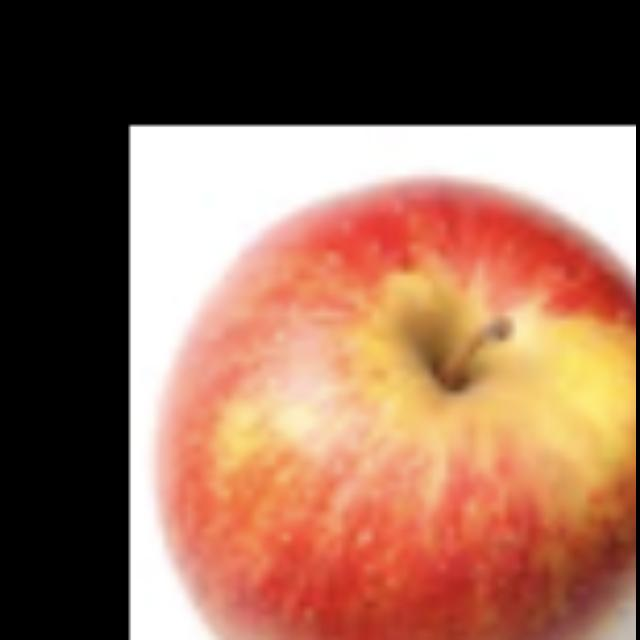Apel Segar: (150, 142, 636, 640)
